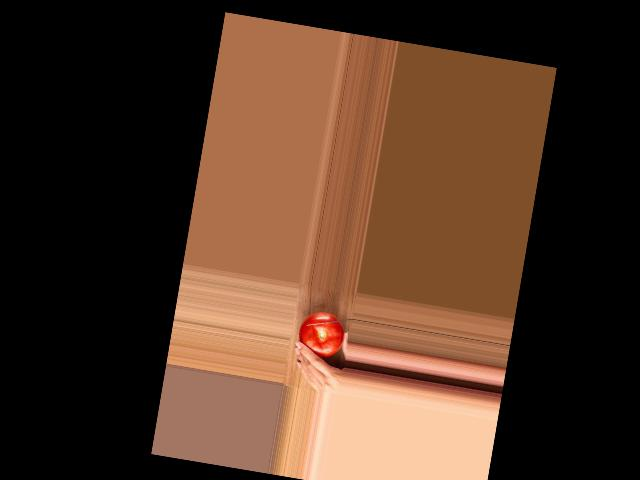tomato: (296, 309, 347, 360)
